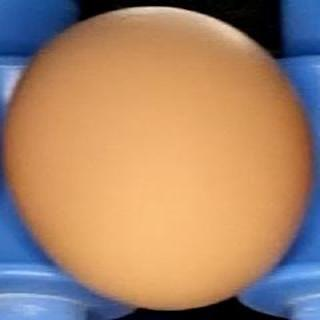Telur: (1, 6, 320, 315)
